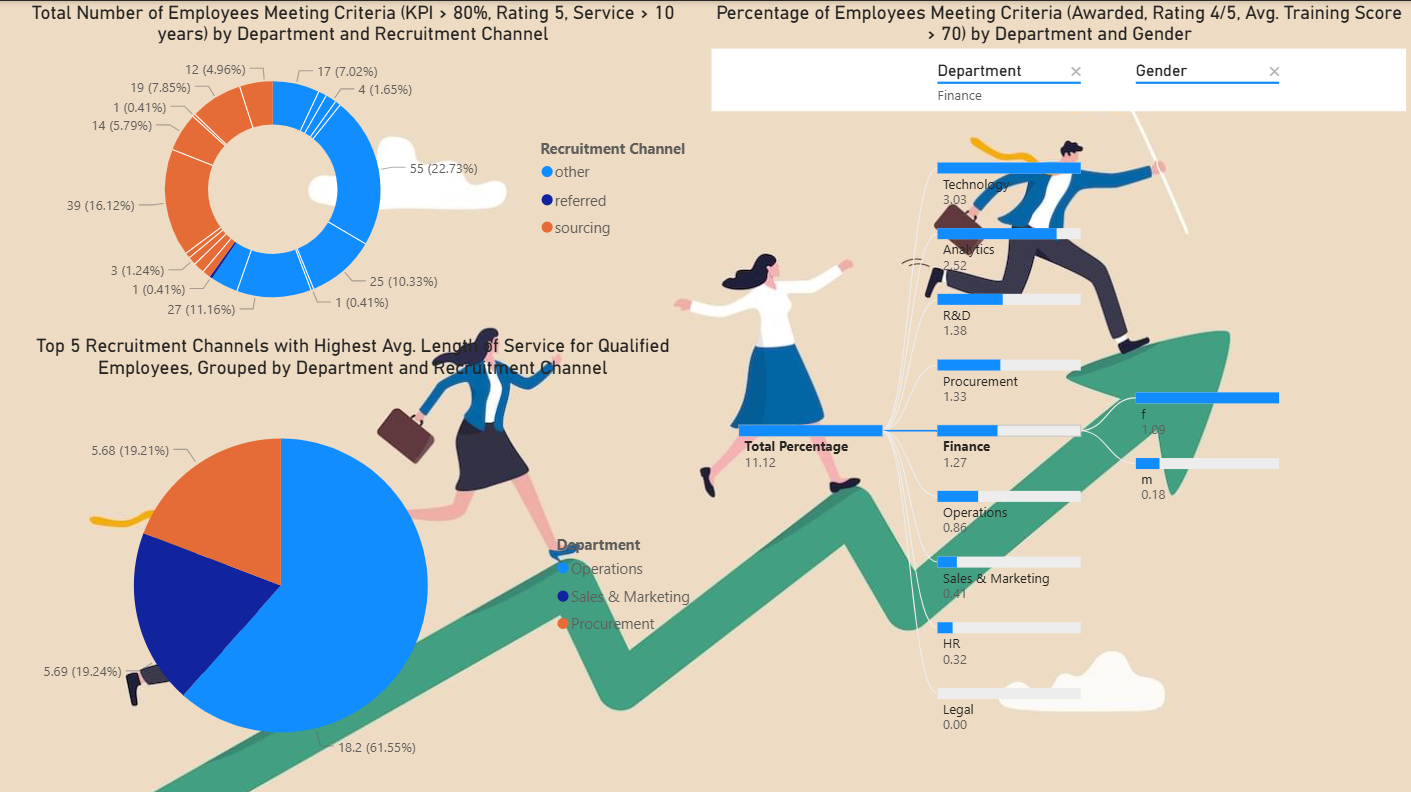

Layout of this report page (visuals, bound fields, positions):
{"tool":"powerbi","page":{"name":"Page 4","canvas":[1280,720],"ordinal":3},"visuals":[{"type":"donutChart","title":"Total Number of Employees Meeting Criteria (KPI > 80%, Rating 5, Service > 10 years) by Department and Recruitment Channel","fields":{"Category":["13.recruitment_channel"],"Y":["Sum(13.num_employees)"],"Series":["13.department"]},"box":[0,0,640.3,303.4],"z":0},{"type":"decompositionTreeVisual","title":"Percentage of Employees Meeting Criteria (Awarded, Rating 4/5, Avg. Training Score > 70) by Department and Gender","fields":{"ExplainBy":["14.department","14.gender"],"Analyze":["Sum(14.percentage)"]},"box":[640.3,0,640.3,719.6],"z":1000},{"type":"pieChart","title":"Top 5 Recruitment Channels with Highest Avg. Length of Service for Qualified Employees, Grouped by Department and Recruitment Channel","fields":{"Category":["15.department","15.recruitment_channel"],"Y":["Sum(15.average_length_of_service)"]},"box":[0,303,640,417],"z":2000}]}

Visuals, with their boxes in screenshot pixels (x1, y1, x2, y2), scaled from the page's 1280x720 canvas onto the 1411x792 screenshot:
"Total Number of Employees Meeting Criteria (KPI > 80%, Rating 5, Service > 10 years) by Department and Recruitment Channel" donutChart: box(0, 0, 706, 334)
"Percentage of Employees Meeting Criteria (Awarded, Rating 4/5, Avg. Training Score > 70) by Department and Gender" decompositionTreeVisual: box(706, 0, 1410, 791)
"Top 5 Recruitment Channels with Highest Avg. Length of Service for Qualified Employees, Grouped by Department and Recruitment Channel" pieChart: box(0, 333, 706, 791)
